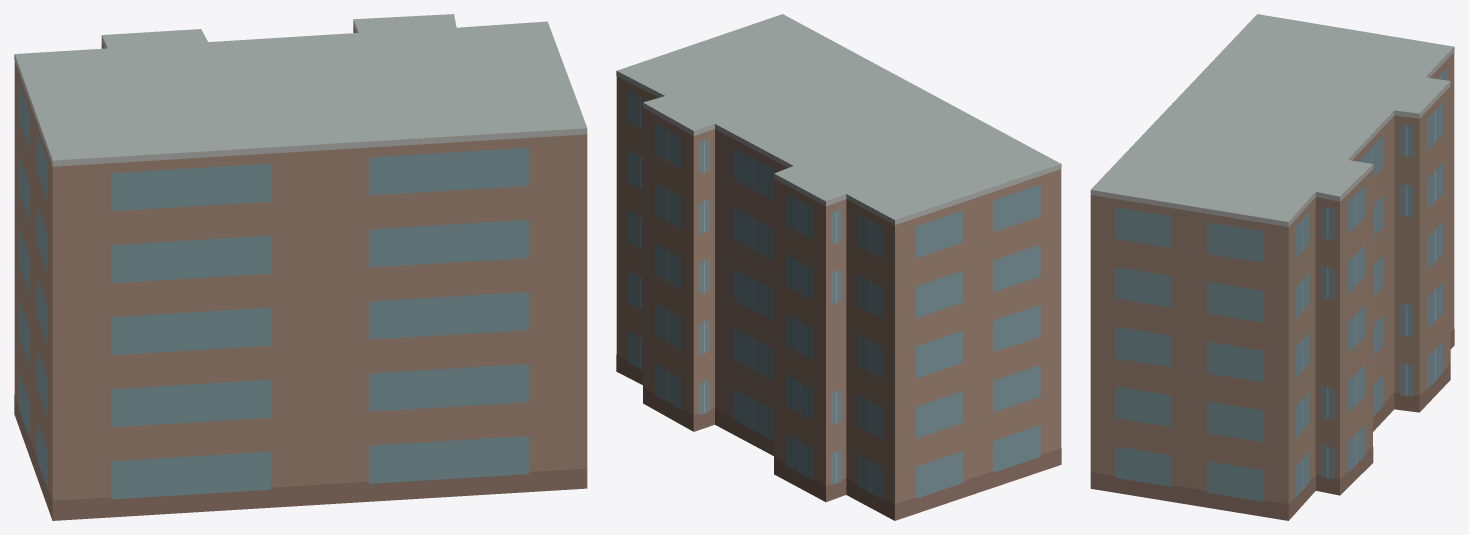
File: survey-upis-32677427.glb
The picture shows the model from 3 angles, left to right: view 1: azimuth 30°, elevation 25°; view 2: azimuth 150°, elevation 25°; view 3: azimuth 270°, elevation 25°; orthographic projection. The views are drawn at different scales.
Visible parts, largest first — view 1: survey-upis-32677427.tmp; view 2: survey-upis-32677427.tmp; view 3: survey-upis-32677427.tmp.
Part boxes in pixels (<box>): survey-upis-32677427.tmp: <box>14,14,587,520</box>; survey-upis-32677427.tmp: <box>616,14,1061,520</box>; survey-upis-32677427.tmp: <box>1090,14,1454,520</box>.
Size of the model in its own units: 21.58 by 14.45 by 15.96.
